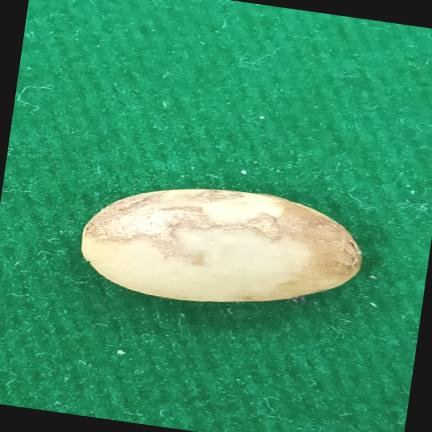parchment: (81, 189, 361, 301)
